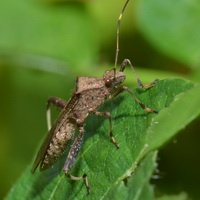insect: (31, 0, 157, 194)
